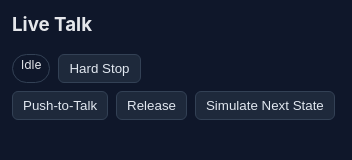
LiveTalkControls › cycles voice state on simulate button click
The image size is (352, 160).
Click the button "Simulate Next State": {"x": 265, "y": 106} [195,91,335,120]
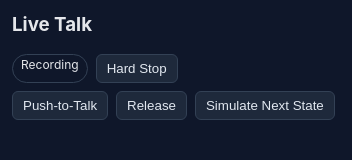
Expected: the text "recording" is shown, [12,54,88,83]
